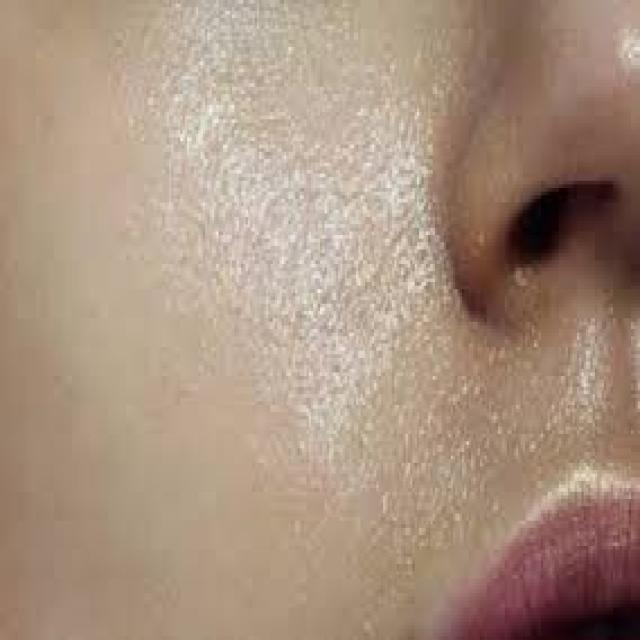oily: (76, 88, 550, 442)
